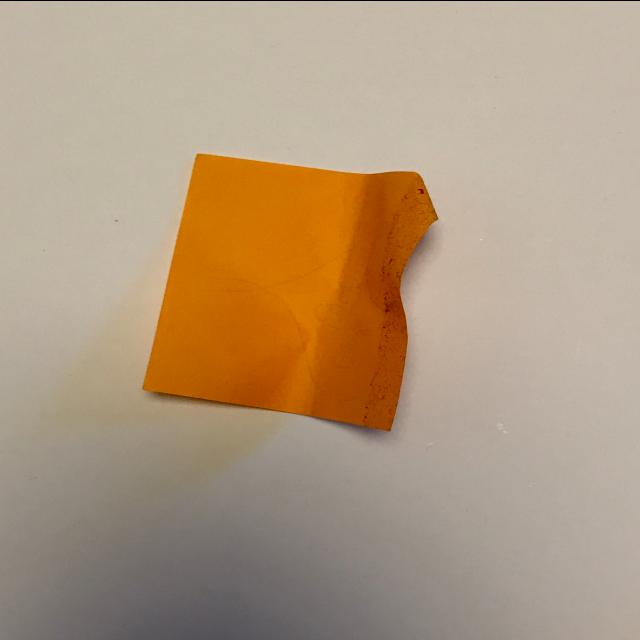Paper: (134, 138, 472, 442)
